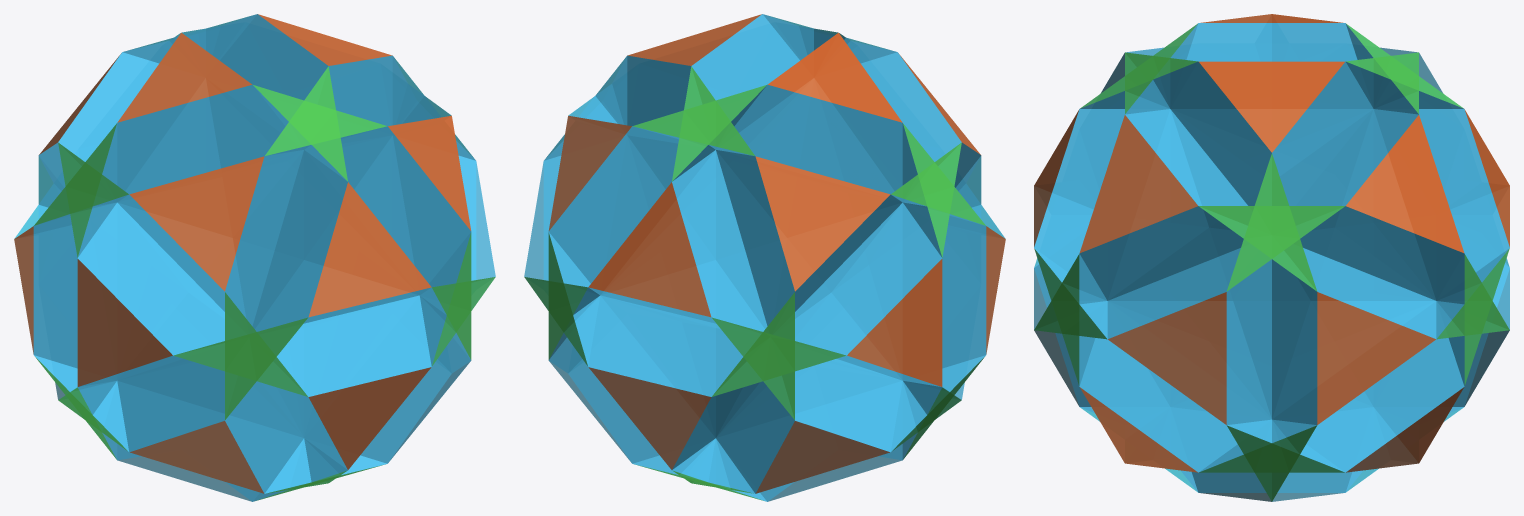
File: SmallDitrigonalDodecicosidodecahedron.obj
3 views of the same model, side by side, from view 1: azimuth 30°, elevation 25°; view 2: azimuth 150°, elevation 25°; view 3: azimuth 270°, elevation 25° (orthographic). The views are drawn at different scales.
Bounding box in the file's own units: 3.24 × 3.24 × 3.24.
